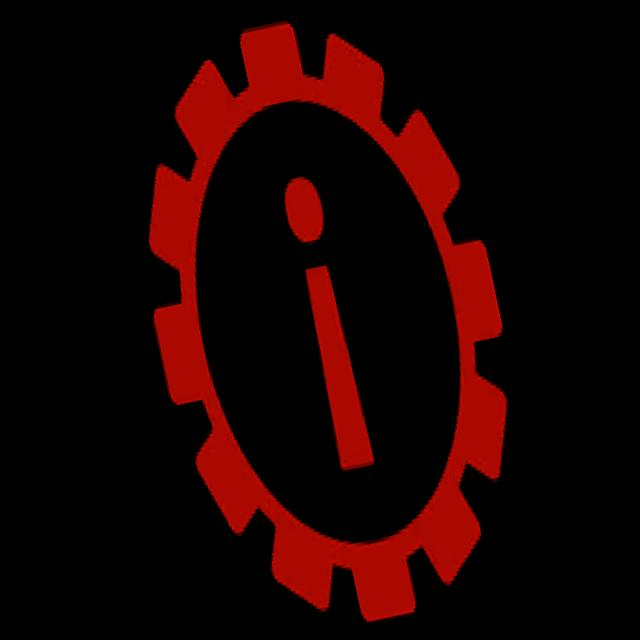kontrolka: (91, 0, 569, 640)
